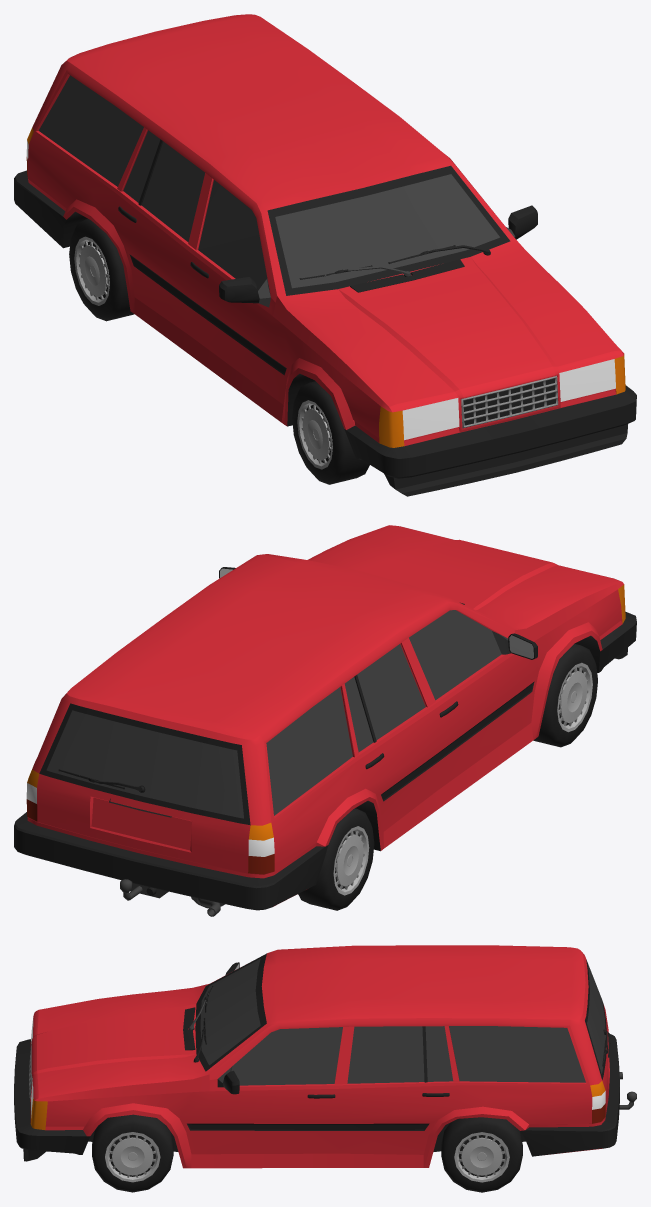
Rendered from car3.fbx.
3 renders of one model, top to bottom at view 1: azimuth 30°, elevation 25°; view 2: azimuth 150°, elevation 25°; view 3: azimuth 270°, elevation 25°, orthographic. The views are drawn at different scales.
Parts seen in each view (by area): view 1: 3; view 2: 3; view 3: 3.
Boxes of the visible parts, left/top/right/bottom form: 3: left=14, top=14, right=636, bottom=496; 3: left=14, top=525, right=636, bottom=916; 3: left=14, top=945, right=636, bottom=1192.
Bounding box in the file's own units: 213 × 136 × 464.
Materials: 1 (1 with a texture image).
